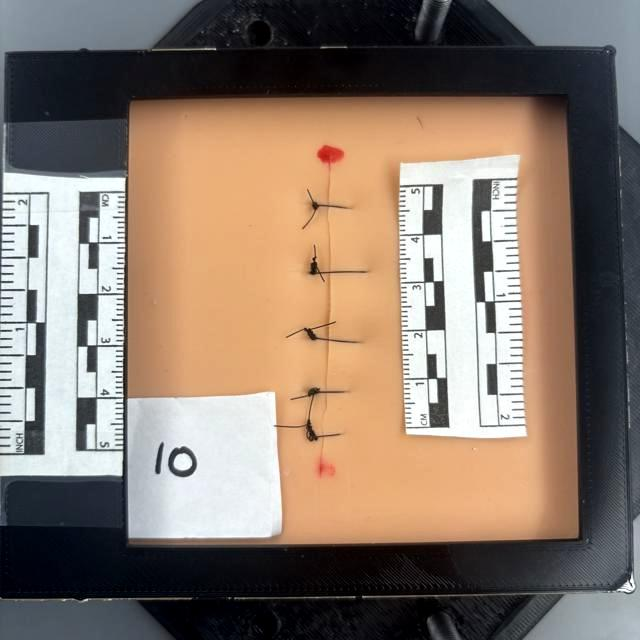incision_line: (320, 156, 329, 471)
scale_marker: (402, 331, 422, 379)
suture_d: (332, 206, 344, 272), (333, 272, 343, 340), (333, 340, 341, 392), (328, 391, 334, 436)
suture_l: (314, 338, 328, 342), (317, 204, 328, 208), (315, 434, 322, 438), (317, 391, 325, 393), (317, 272, 329, 273)
suture_r: (328, 338, 359, 343), (328, 205, 348, 209), (330, 272, 368, 274), (322, 435, 341, 437), (326, 391, 344, 393)
